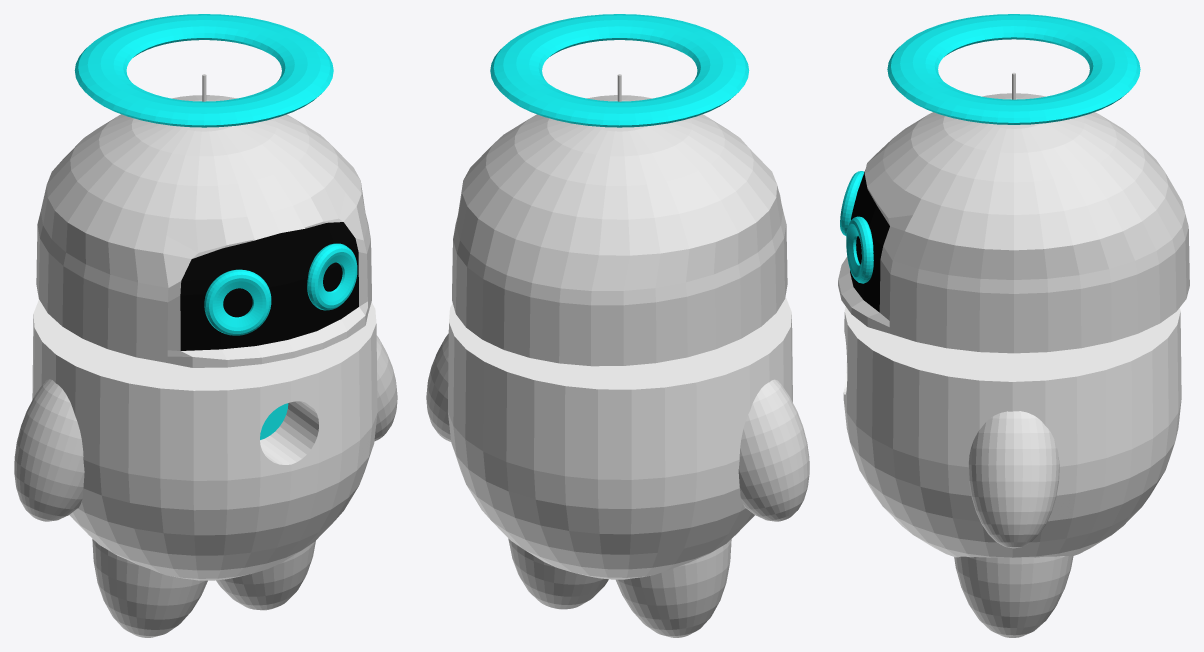
Rendered from Ready.fbx.
3 renders of one model, left to right at view 1: azimuth 30°, elevation 25°; view 2: azimuth 150°, elevation 25°; view 3: azimuth 270°, elevation 25°, orthographic. The views are drawn at different scales.
Parts seen in each view (by area): view 1: head, body, ring, right_arm, right_leg, left_leg, right_eye, left_eye, left_arm; view 2: head, body, ring, right_arm, right_leg, left_leg, left_arm; view 3: head, body, ring, left_arm, left_leg, left_eye, right_eye.
Part boxes in pixels (left/top/right/bottom): head: left=36, top=95, right=371, bottom=367; body: left=32, top=299, right=377, bottom=580; ring: left=74, top=14, right=333, bottom=127; right_arm: left=14, top=379, right=84, bottom=521; right_leg: left=92, top=539, right=207, bottom=637; left_leg: left=216, top=541, right=315, bottom=610; right_eye: left=204, top=269, right=271, bottom=335; left_eye: left=307, top=243, right=357, bottom=310; left_arm: left=374, top=335, right=397, bottom=441; head: left=452, top=95, right=787, bottom=366; body: left=448, top=297, right=792, bottom=579; ring: left=490, top=14, right=749, bottom=127; right_arm: left=738, top=379, right=809, bottom=521; right_leg: left=616, top=539, right=731, bottom=637; left_leg: left=508, top=538, right=608, bottom=609; left_arm: left=426, top=333, right=450, bottom=441; head: left=838, top=93, right=1189, bottom=353; body: left=843, top=306, right=1181, bottom=557; ring: left=887, top=14, right=1140, bottom=124; left_arm: left=968, top=411, right=1059, bottom=548; left_leg: left=954, top=556, right=1073, bottom=637; left_eye: left=846, top=216, right=873, bottom=283; right_eye: left=840, top=171, right=864, bottom=236.
Size of the model in its own units: 236 by 338 by 198.
